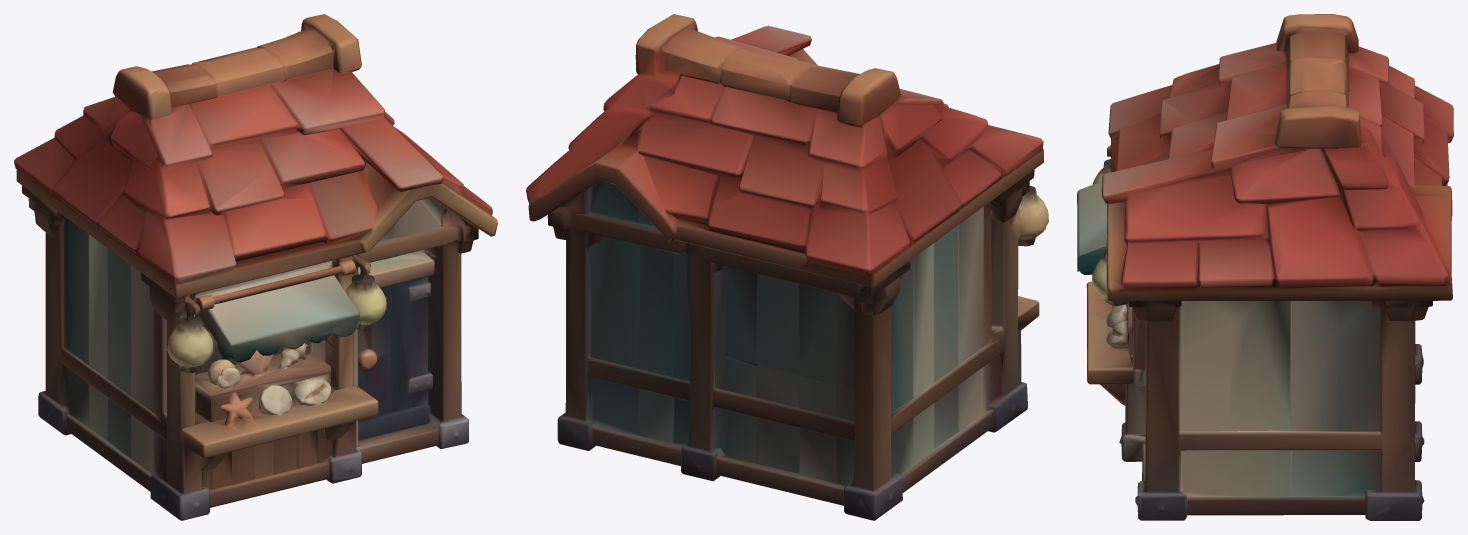
Rendered from hut-BXQ-Xa58.glb.
3 views of the same model, side by side, from view 1: azimuth 30°, elevation 25°; view 2: azimuth 150°, elevation 25°; view 3: azimuth 270°, elevation 25° (orthographic). The views are drawn at different scales.
Visible parts, largest first — view 1: tripo_node_a4f9e7ba-610e-4d52-9da9-7c1b820eec10; view 2: tripo_node_a4f9e7ba-610e-4d52-9da9-7c1b820eec10; view 3: tripo_node_a4f9e7ba-610e-4d52-9da9-7c1b820eec10.
Part boxes in pixels (x1,y1,x2,y2): tripo_node_a4f9e7ba-610e-4d52-9da9-7c1b820eec10: (14, 14, 497, 520); tripo_node_a4f9e7ba-610e-4d52-9da9-7c1b820eec10: (526, 14, 1048, 520); tripo_node_a4f9e7ba-610e-4d52-9da9-7c1b820eec10: (1077, 14, 1453, 520).
Bounding box in the file's own units: 0.9133 × 0.9794 × 0.8677.
